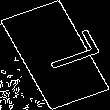L_SW: (17, 30, 93, 80)
